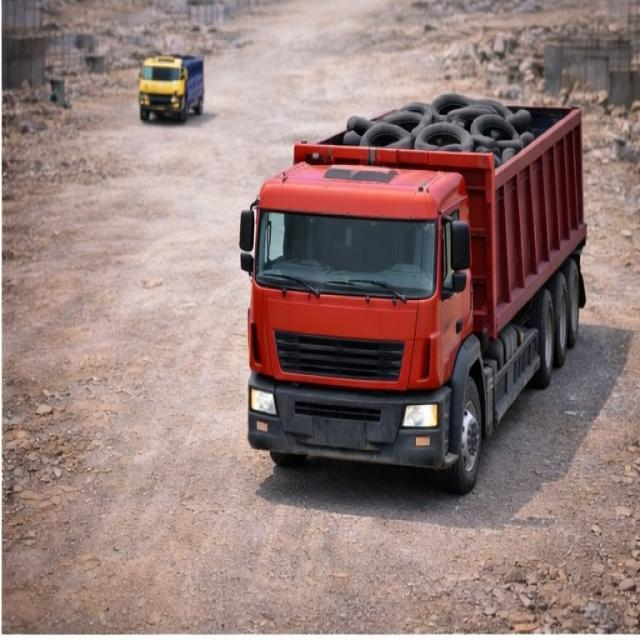Box: (292, 88, 580, 156)
Truck: (231, 64, 591, 484), (127, 48, 210, 127)
